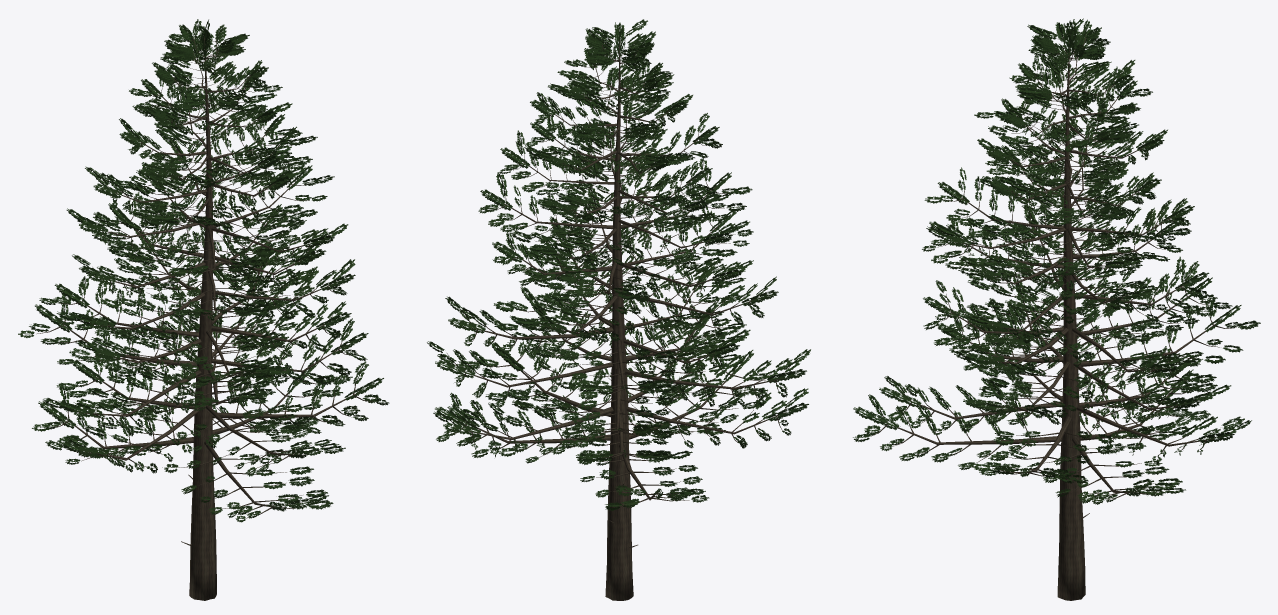
The model's file is pine-natural-3.glb.
3 views of the same model, side by side, from view 1: azimuth 30°, elevation 25°; view 2: azimuth 150°, elevation 25°; view 3: azimuth 270°, elevation 25° (orthographic).
Parts seen in each view (by area): view 1: pine-natural-3 / Layered pine needle cutouts, pine-natural-3 / Rain dark fissured pine bark; view 2: pine-natural-3 / Layered pine needle cutouts, pine-natural-3 / Rain dark fissured pine bark; view 3: pine-natural-3 / Layered pine needle cutouts, pine-natural-3 / Rain dark fissured pine bark.
Part boxes in pixels (x1,y1,x2,y2): pine-natural-3 / Layered pine needle cutouts: (18,19,389,522); pine-natural-3 / Rain dark fissured pine bark: (37,34,372,600); pine-natural-3 / Layered pine needle cutouts: (427,19,810,510); pine-natural-3 / Rain dark fissured pine bark: (447,31,792,600); pine-natural-3 / Layered pine needle cutouts: (853,18,1260,504); pine-natural-3 / Rain dark fissured pine bark: (871,34,1235,600).
Bounding box in the file's own units: 6.22 × 10.1 × 6.64.
Materials: 2 (2 with a texture image).
